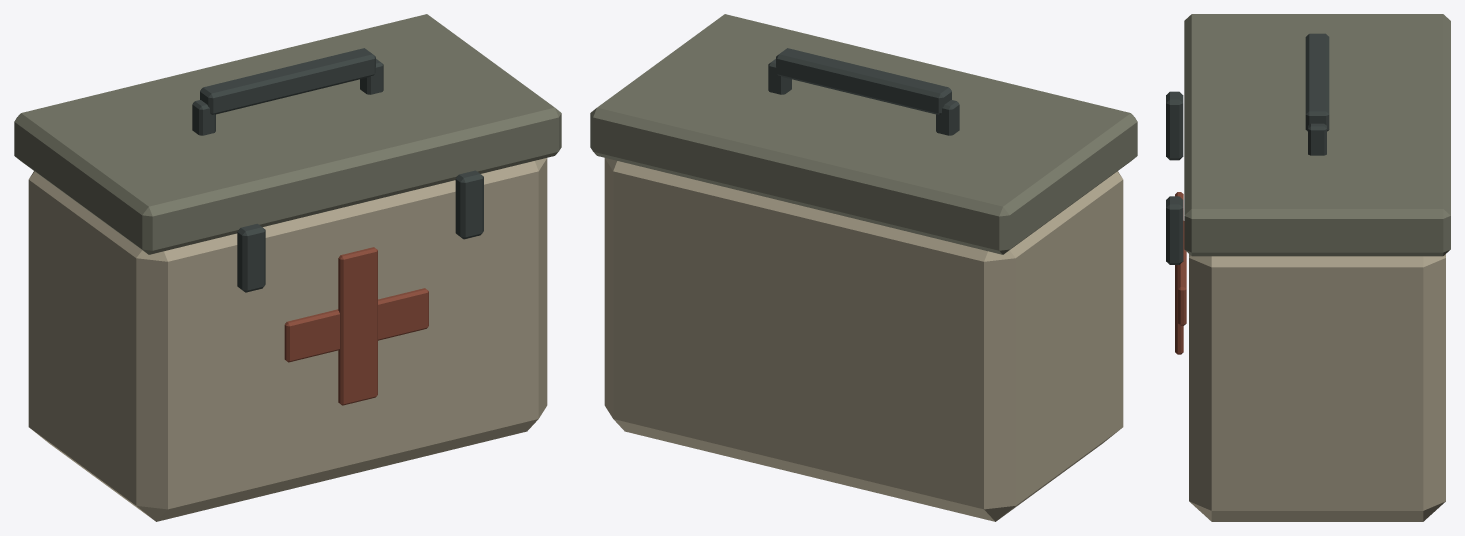
Rendered from MedicalBox01.fbx.
The picture shows the model from 3 angles, left to right: view 1: azimuth 30°, elevation 25°; view 2: azimuth 150°, elevation 25°; view 3: azimuth 270°, elevation 25°; orthographic projection.
Visible parts, largest first — view 1: Medical_Case, Medical_Lid, Cross_Vertical, Case_Handle, Cross_Horizontal, Case_Clasp, Case_Clasp.001, Case_HandleEnd; view 2: Medical_Case, Medical_Lid, Case_Handle, Case_HandleEnd; view 3: Medical_Case, Medical_Lid, Case_Handle, Case_Clasp, Case_Clasp.001, Cross_Horizontal, Case_HandleEnd.001, Cross_Vertical.
Part boxes in pixels (x1=…): Medical_Case: x1=28, y1=158, x2=547, y2=521; Medical_Lid: x1=14, y1=14, x2=561, y2=254; Cross_Vertical: x1=338, y1=247, x2=377, y2=405; Case_Handle: x1=200, y1=48, x2=375, y2=114; Cross_Horizontal: x1=284, y1=288, x2=428, y2=362; Case_Clasp: x1=237, y1=223, x2=265, y2=292; Case_Clasp.001: x1=455, y1=170, x2=483, y2=239; Case_HandleEnd: x1=192, y1=100, x2=215, y2=135; Medical_Case: x1=604, y1=158, x2=1123, y2=521; Medical_Lid: x1=590, y1=14, x2=1137, y2=254; Case_Handle: x1=776, y1=48, x2=951, y2=114; Case_HandleEnd: x1=936, y1=100, x2=959, y2=135; Medical_Case: x1=1189, y1=254, x2=1445, y2=521; Medical_Lid: x1=1184, y1=14, x2=1450, y2=256; Case_Handle: x1=1305, y1=33, x2=1329, y2=131; Case_Clasp: x1=1166, y1=91, x2=1183, y2=160; Case_Clasp.001: x1=1166, y1=196, x2=1183, y2=264; Cross_Horizontal: x1=1178, y1=221, x2=1186, y2=325; Case_HandleEnd.001: x1=1308, y1=123, x2=1326, y2=155; Cross_Vertical: x1=1175, y1=192, x2=1183, y2=354.
Bounding box in the file's own units: 50 × 41.75 × 29.9.
